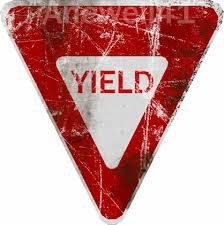yield_sign: (2, 1, 223, 221)
